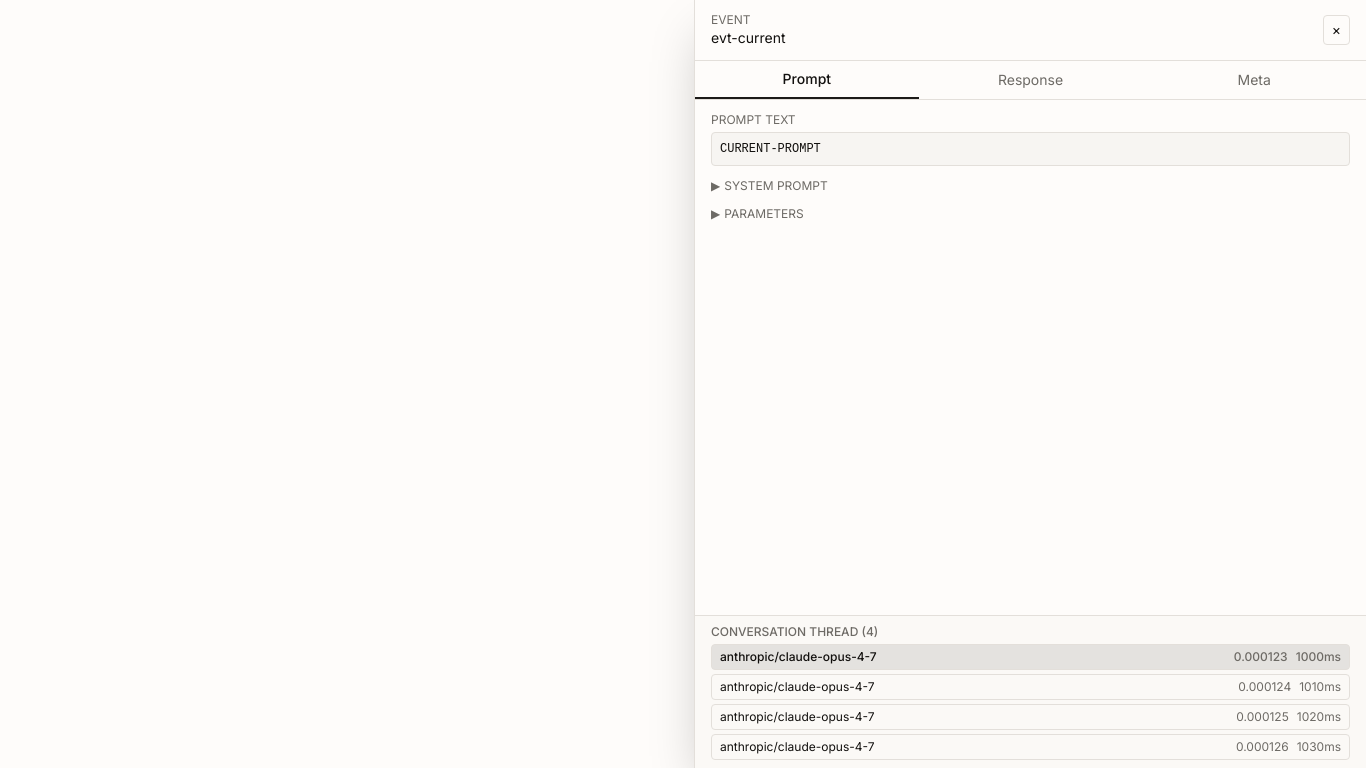
Test: EventSidePanel — conversation thread mini-list › lists 4 siblings; clicking sibling 3 switches the panel to that event
Expected: the footer with test id "event-side-panel-thread" shows "Conversation thread (4)", x1=695 y1=615 x2=1365 y2=767
Step 1. Click the button with test id "event-thread-sibling-evt-sibling-3" → (747, 746), box x1=711 y1=734 x2=1350 y2=760
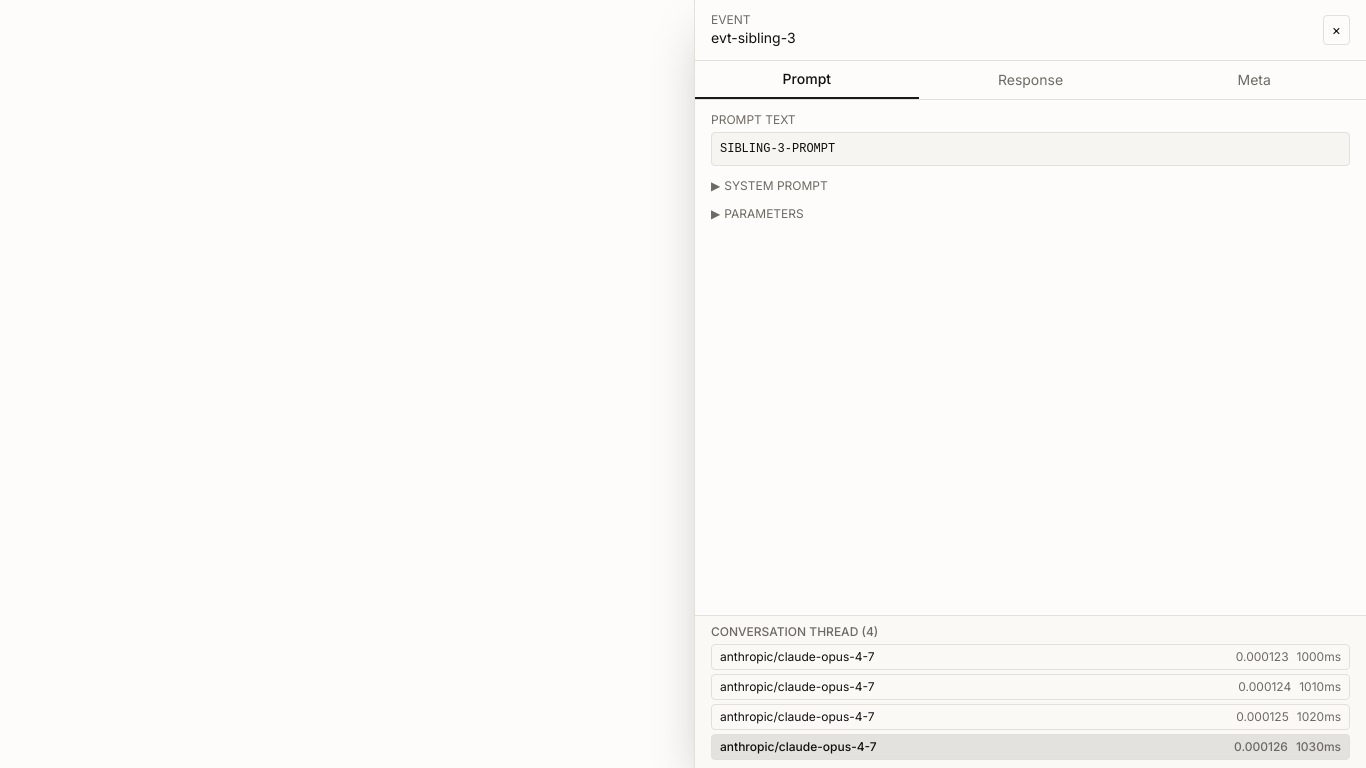
Result: the text with test id "event-side-panel-id" reads "evt-sibling-3" at x1=711 y1=29 x2=796 y2=46
Result: the text with test id "event-prompt-text" reads "SIBLING-3-PROMPT" at x1=720 y1=142 x2=835 y2=156
